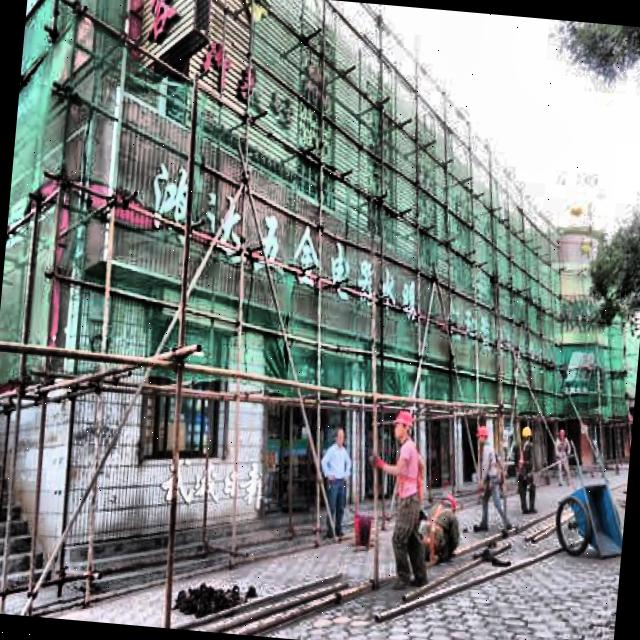helmet: (388, 404, 418, 446), (438, 491, 462, 516), (474, 420, 494, 448)
